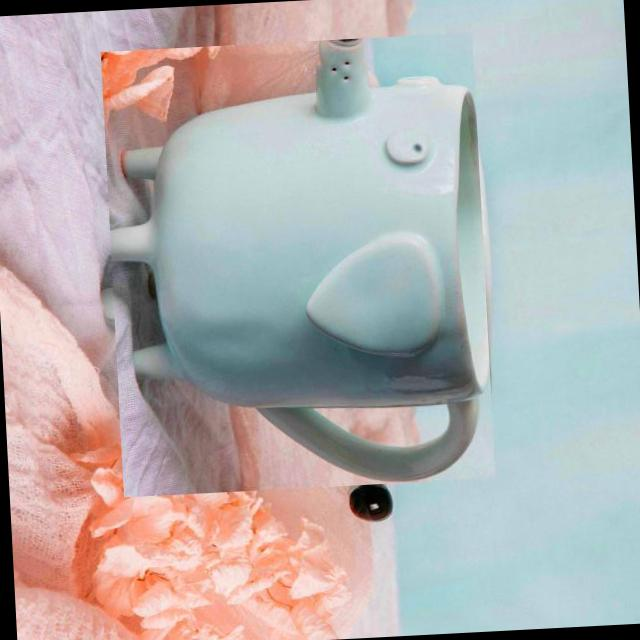Coffee Mug: (100, 30, 498, 498)
